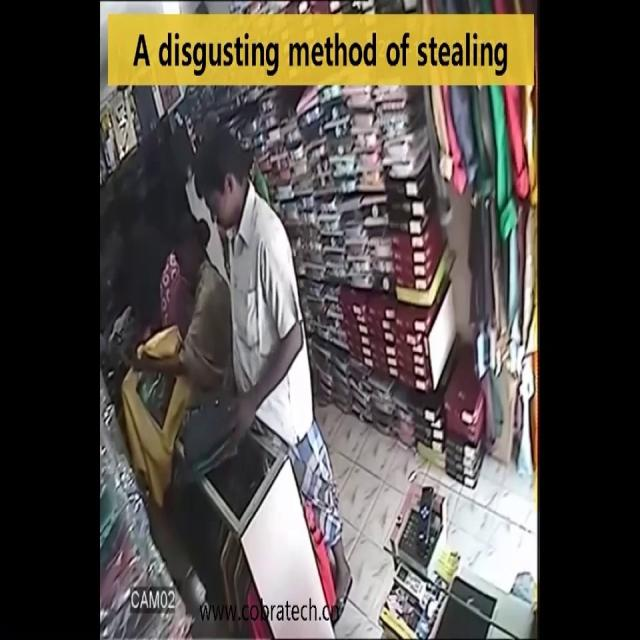normal: (168, 139, 348, 612), (159, 206, 215, 342)
